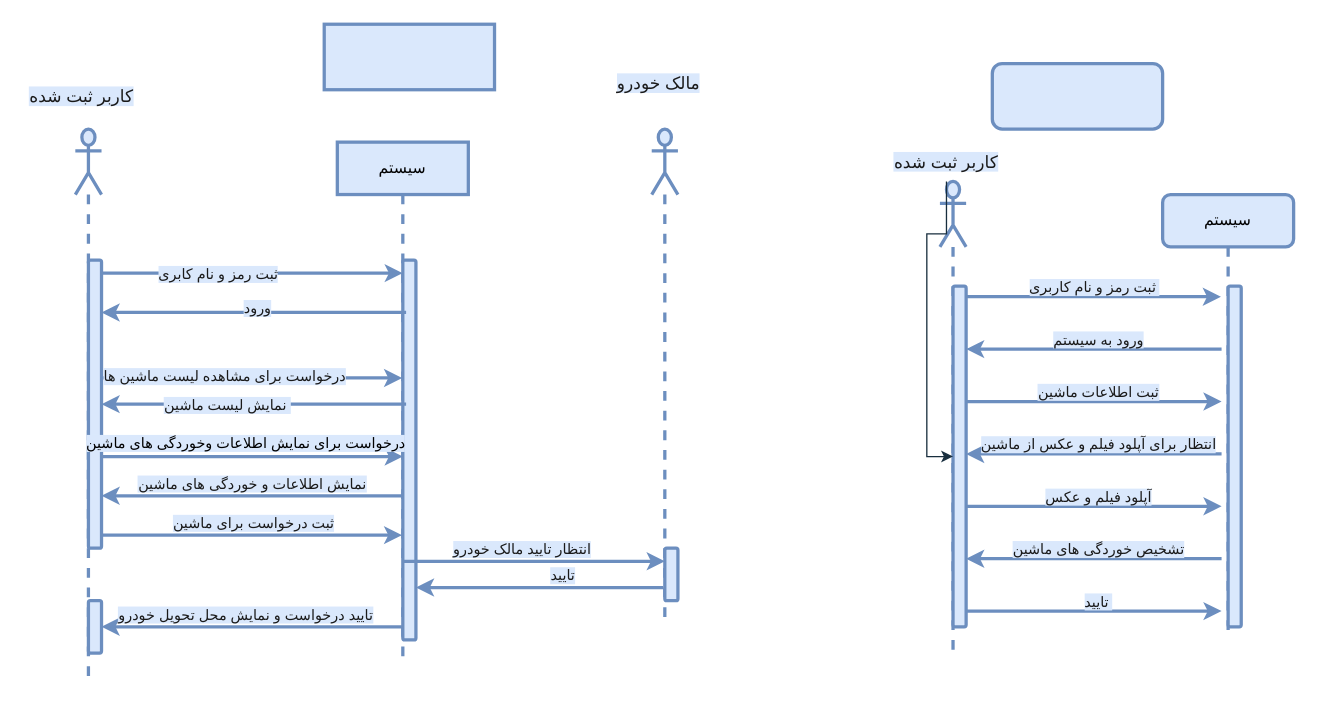
The diagram is 1318 pixels wide and 703 high, and some of its shapes have lost their labels. The shapes that lost their labels are listed below. From the top down, each one's centre as x and y in pixels, then its label:
At point 409,56: "اجاره کردن یا خرید ماشین".
At point 1077,95: "ثبت ماشین برای فروش یا اجاره".
